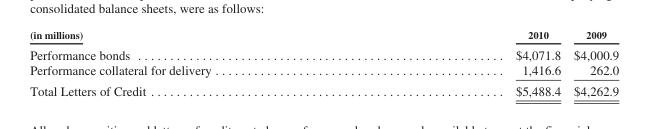table: (29, 28, 618, 97)
table column: (29, 28, 362, 97), (362, 28, 566, 97), (566, 28, 618, 97)
table column header: (29, 28, 618, 43)
table row: (29, 43, 618, 62), (29, 62, 618, 80), (29, 80, 618, 97), (29, 28, 618, 43)
